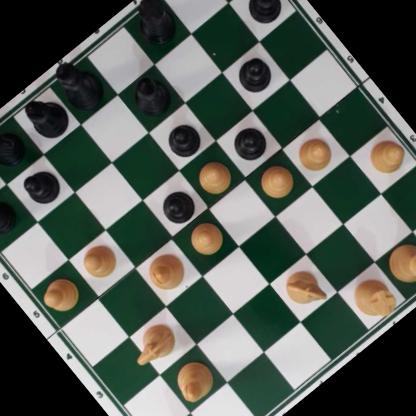black-bishop: (16, 86, 75, 147), (124, 68, 177, 123)
black-king: (45, 50, 110, 117)
black-knight: (0, 113, 32, 178)
black-pawn: (17, 162, 65, 211), (229, 50, 277, 98), (158, 116, 206, 164), (226, 119, 273, 167), (153, 183, 199, 229), (239, 0, 291, 31), (0, 193, 19, 242)
black-rook: (122, 0, 185, 54)
white-bishop: (165, 353, 221, 410), (140, 247, 190, 297)
white-king: (379, 232, 416, 296)
white-knight: (125, 317, 184, 374), (276, 261, 331, 317)
white-pawn: (361, 132, 412, 183), (288, 130, 337, 179), (188, 154, 236, 202), (36, 271, 84, 319), (74, 237, 122, 285), (252, 158, 299, 205), (181, 215, 227, 261)
white-rook: (346, 271, 401, 327)
